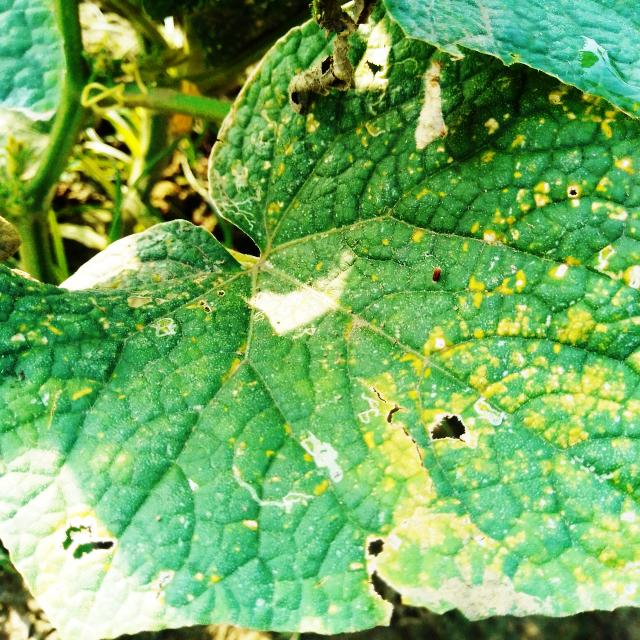Downy-Mildew: (1, 4, 640, 640)
